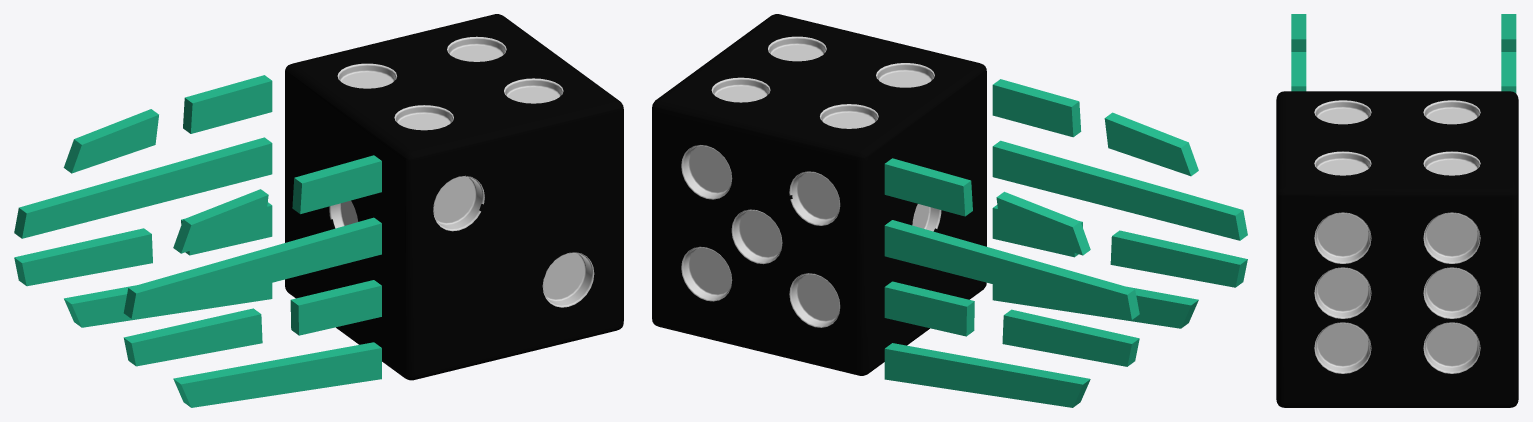
File: SM_ICON_Movement_Speed.fbx
The picture shows the model from 3 angles, left to right: view 1: azimuth 30°, elevation 25°; view 2: azimuth 150°, elevation 25°; view 3: azimuth 270°, elevation 25°; orthographic projection. The views are drawn at different scales.
Visible parts, largest first — view 1: Movement_Speed_Icon; view 2: Movement_Speed_Icon; view 3: Movement_Speed_Icon.
Boxes of the visible parts, x1,y1,x2,y2 form: Movement_Speed_Icon: [14, 14, 623, 407]; Movement_Speed_Icon: [652, 14, 1247, 407]; Movement_Speed_Icon: [1276, 14, 1518, 407].
Size of the model in its own units: 59.65 by 26.78 by 26.78.
